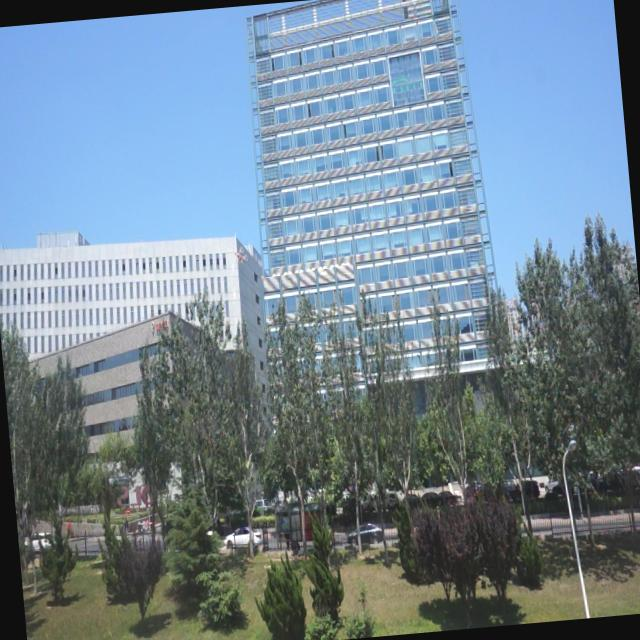drone: (232, 247, 248, 264)
